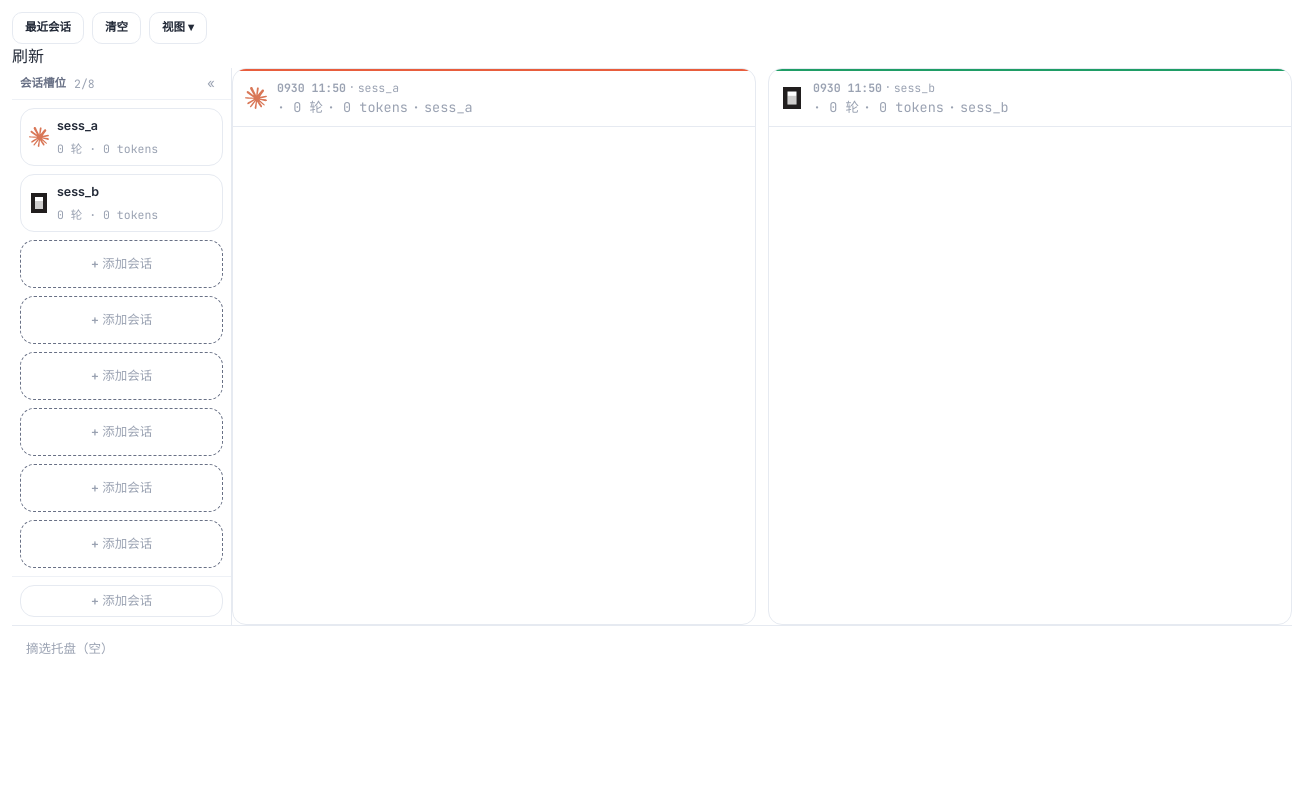
Test case: WorkspaceView (t224) › 清空按钮退订全部并回到空态
Check: the number of elements with test id "session-slot-title" is 2, box [57,118,98,133]; [57,184,99,199]
Click the button "清空" at coordinates (116, 28), box [92,12,141,44]
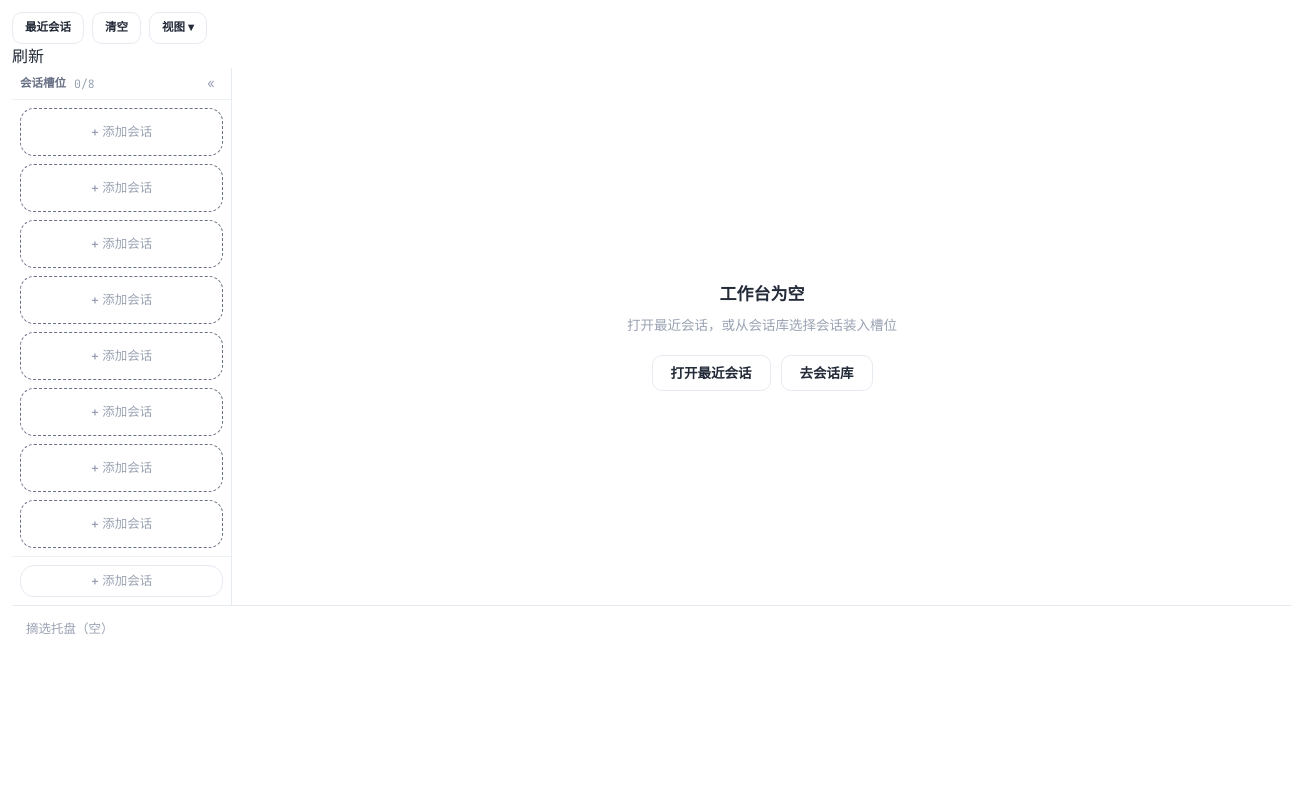
Check: the text "工作台为空" is shown, box [720,282,804,307]
